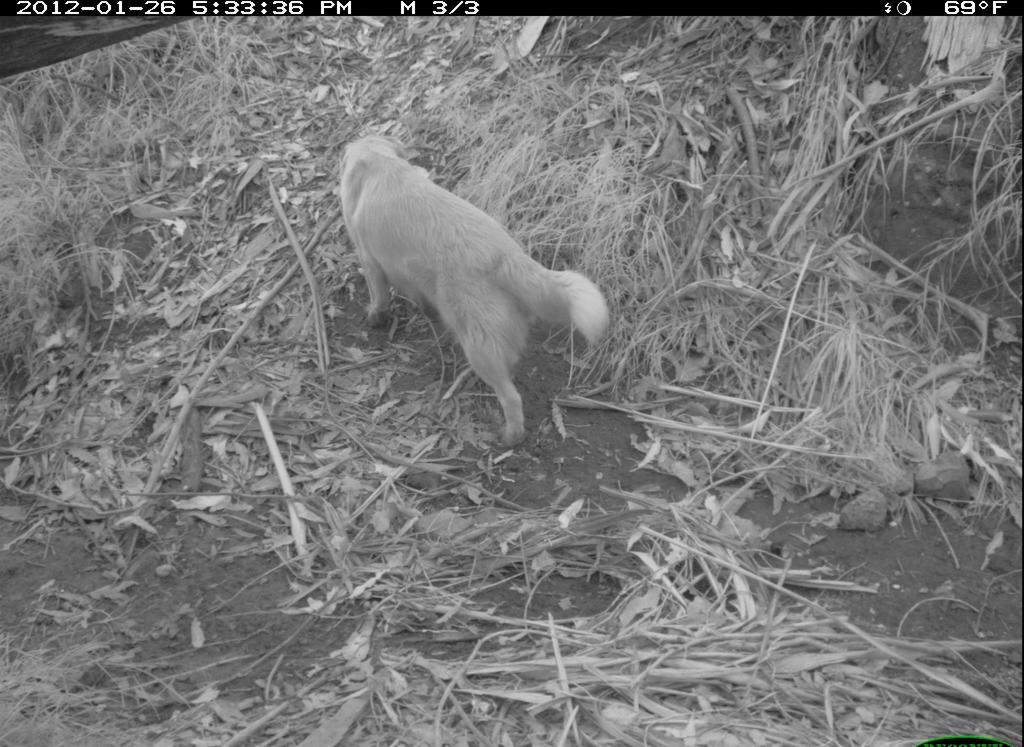dog: (333, 113, 619, 455)
